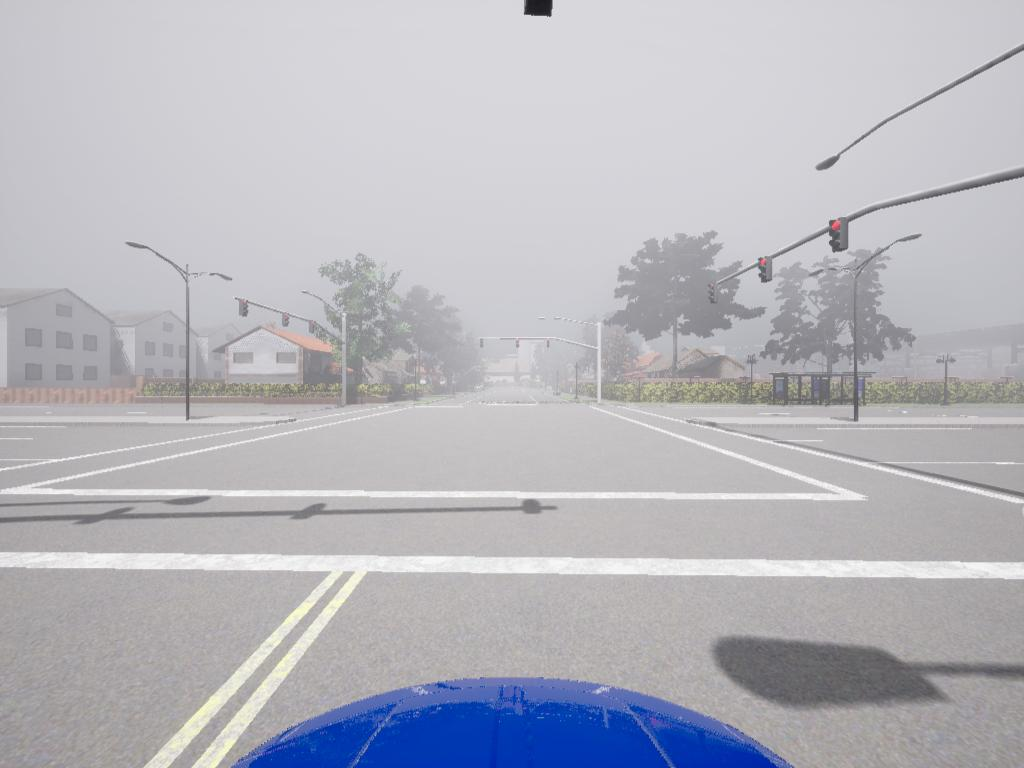traffic_light: (830, 220, 850, 254), (525, 1, 557, 17), (760, 259, 774, 284), (707, 284, 720, 307), (238, 299, 250, 321), (309, 320, 318, 335), (283, 314, 291, 330), (515, 338, 521, 350), (480, 339, 485, 350), (548, 339, 552, 350)
